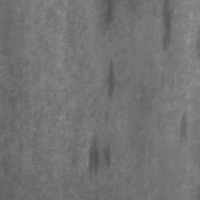inclusion: (85, 134, 116, 182), (159, 0, 176, 53), (102, 56, 120, 102), (176, 107, 192, 146)
